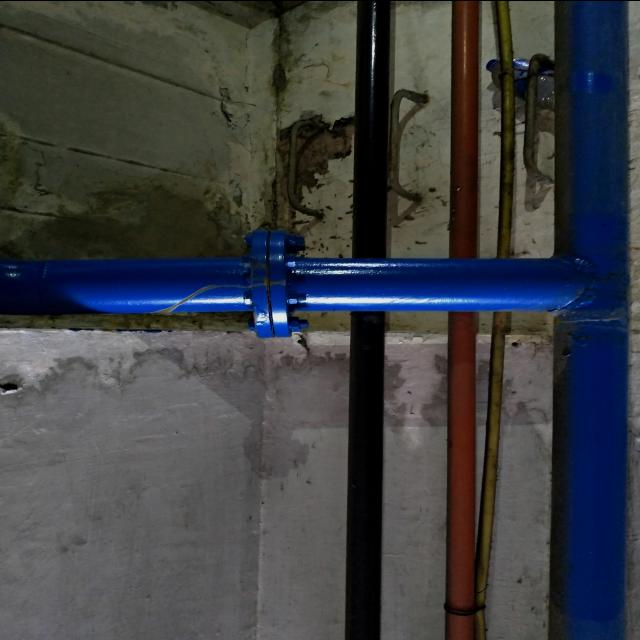gas: (549, 0, 631, 640), (0, 260, 569, 312), (348, 310, 389, 640), (446, 307, 480, 640), (355, 0, 392, 259), (449, 0, 479, 256)
